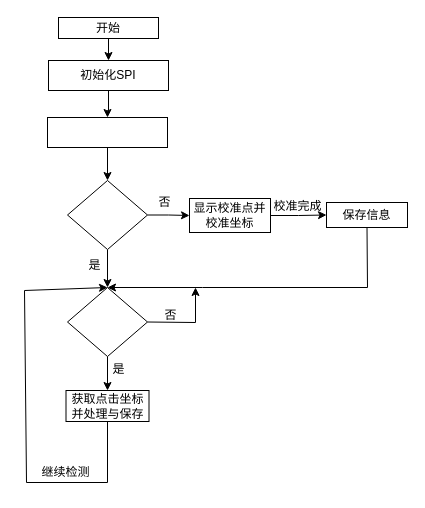
This 425x508 diagram has some shape labels left out. Each missing label, with the box of its shape:
初始化XPT2046: (46, 116, 168, 148)
检测是否按下: (66, 286, 148, 356)
获取校准信息: (66, 180, 148, 250)
